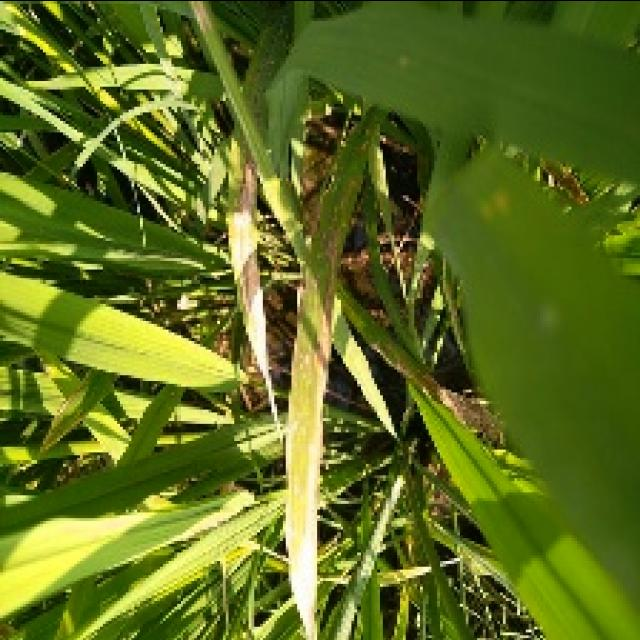Unhealthy: (286, 222, 339, 640), (230, 159, 278, 424)
